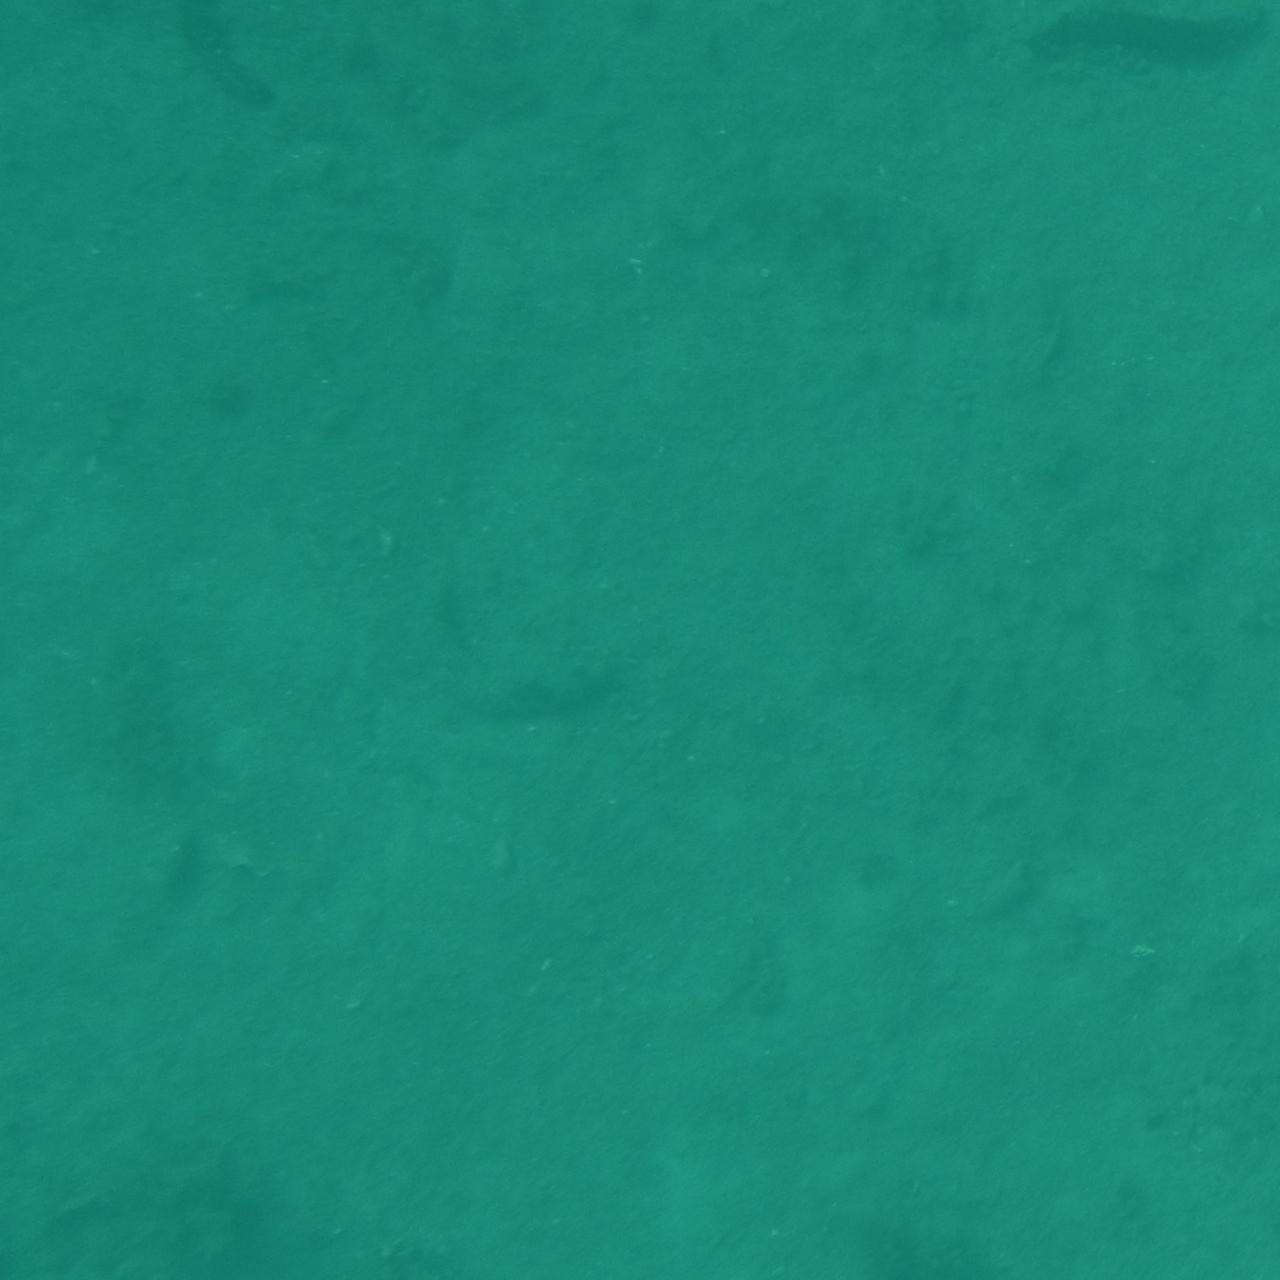Holothuria tubulosa: (433, 628, 631, 769), (0, 339, 147, 517), (988, 0, 1280, 89), (1162, 248, 1280, 431), (1182, 195, 1280, 399), (0, 312, 86, 538), (345, 1200, 567, 1280), (1143, 0, 1280, 124), (1136, 459, 1280, 560), (176, 0, 274, 138), (0, 1128, 75, 1280), (48, 1232, 251, 1280), (1233, 0, 1280, 135)
